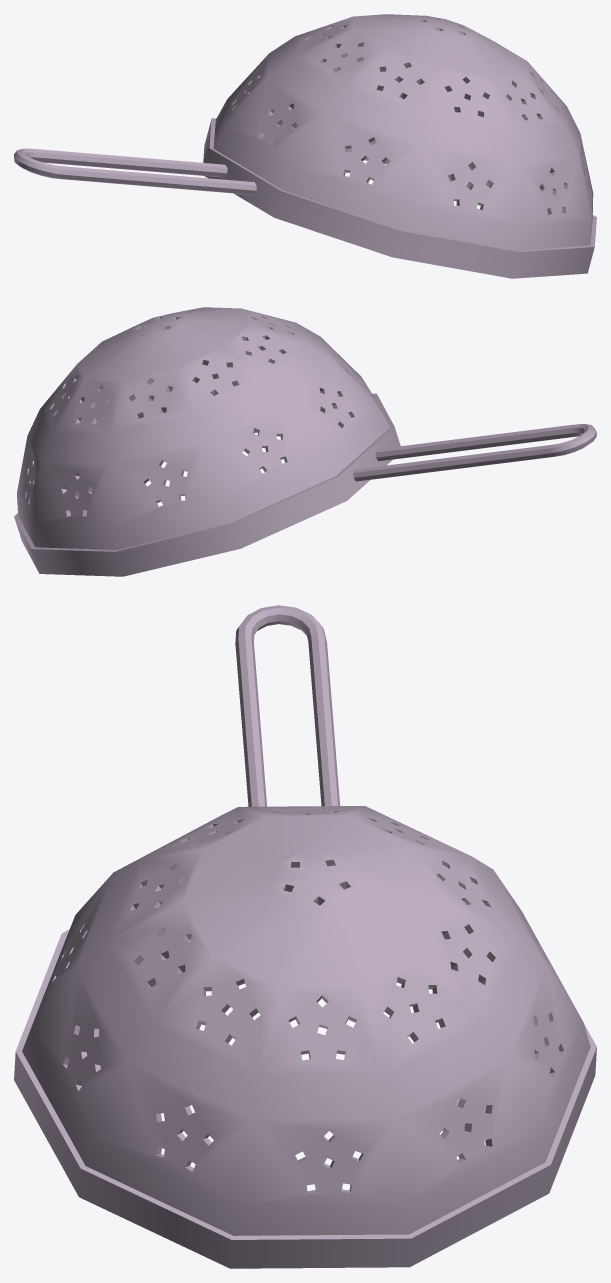
File: Hat_73_01.fbx
3 views of the same model, one above another, from view 1: azimuth 30°, elevation 25°; view 2: azimuth 150°, elevation 25°; view 3: azimuth 270°, elevation 25° (orthographic). The views are drawn at different scales.
Visible parts, largest first — view 1: Hat_73_01; view 2: Hat_73_01; view 3: Hat_73_01.
Boxes of the visible parts, box(x1,y1,x2,y2) form: Hat_73_01: box(14, 14, 596, 278); Hat_73_01: box(14, 307, 596, 576); Hat_73_01: box(14, 605, 596, 1268).
Bounding box in the file's own units: 59.05 × 23.56 × 38.18.
